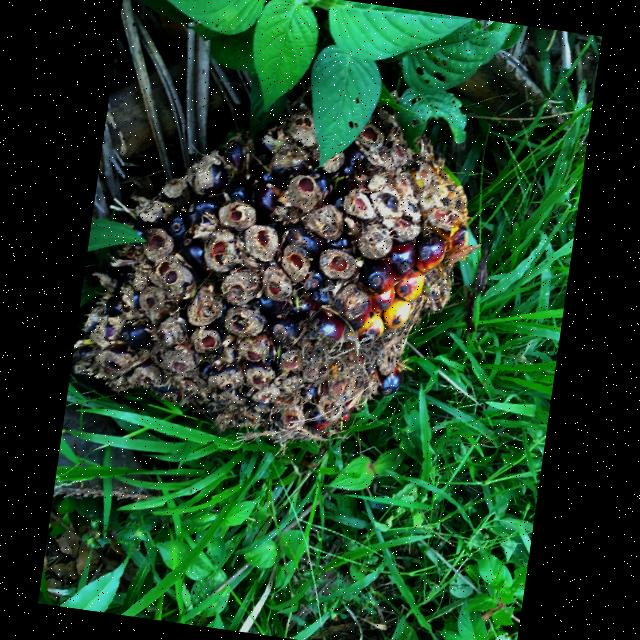Damaged: (79, 98, 481, 446)
